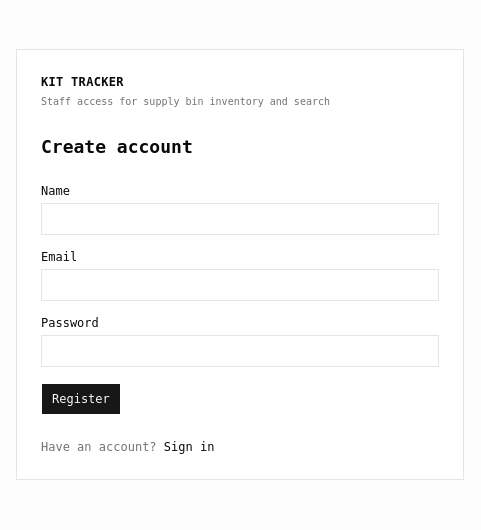
Test: Register › shows required field errors when submitted empty
The width and height of the screenshot is (481, 530).
Click the button "Register" at (81, 398), box [41, 382, 121, 414]
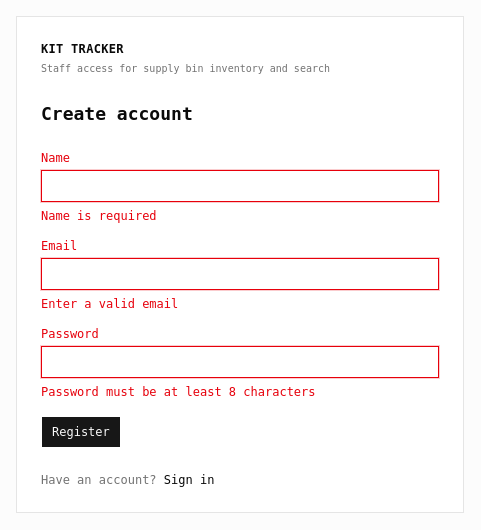
Expected: the text "Name is required" is shown, [41, 208, 157, 222]
Expected: the text "Enter a valid email" is shown, [41, 296, 178, 310]
Expected: the text "Password must be at least 8 characters" is shown, [41, 384, 316, 398]
